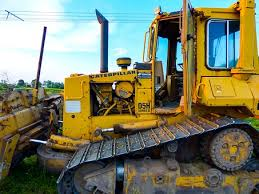bulldozer: (0, 3, 259, 194)
